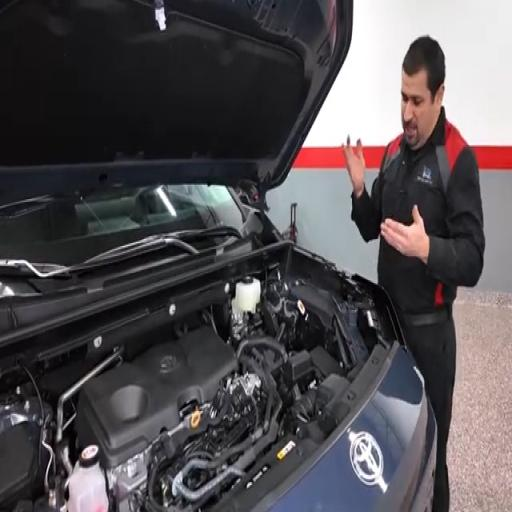bumper: (270, 349, 436, 511)
emblem: (350, 433, 383, 486)
hood: (0, 0, 352, 203)
windshield: (0, 185, 243, 265)
